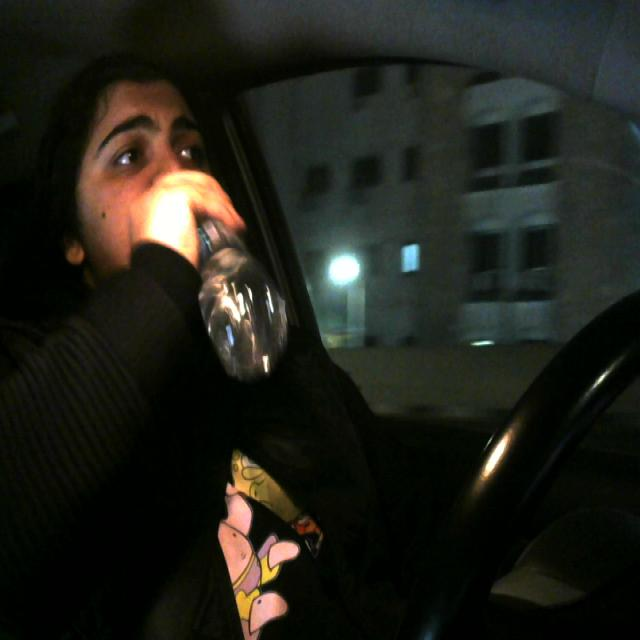drinking: (157, 174, 291, 382)
